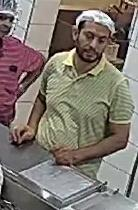no_apron: (38, 45, 124, 143)
